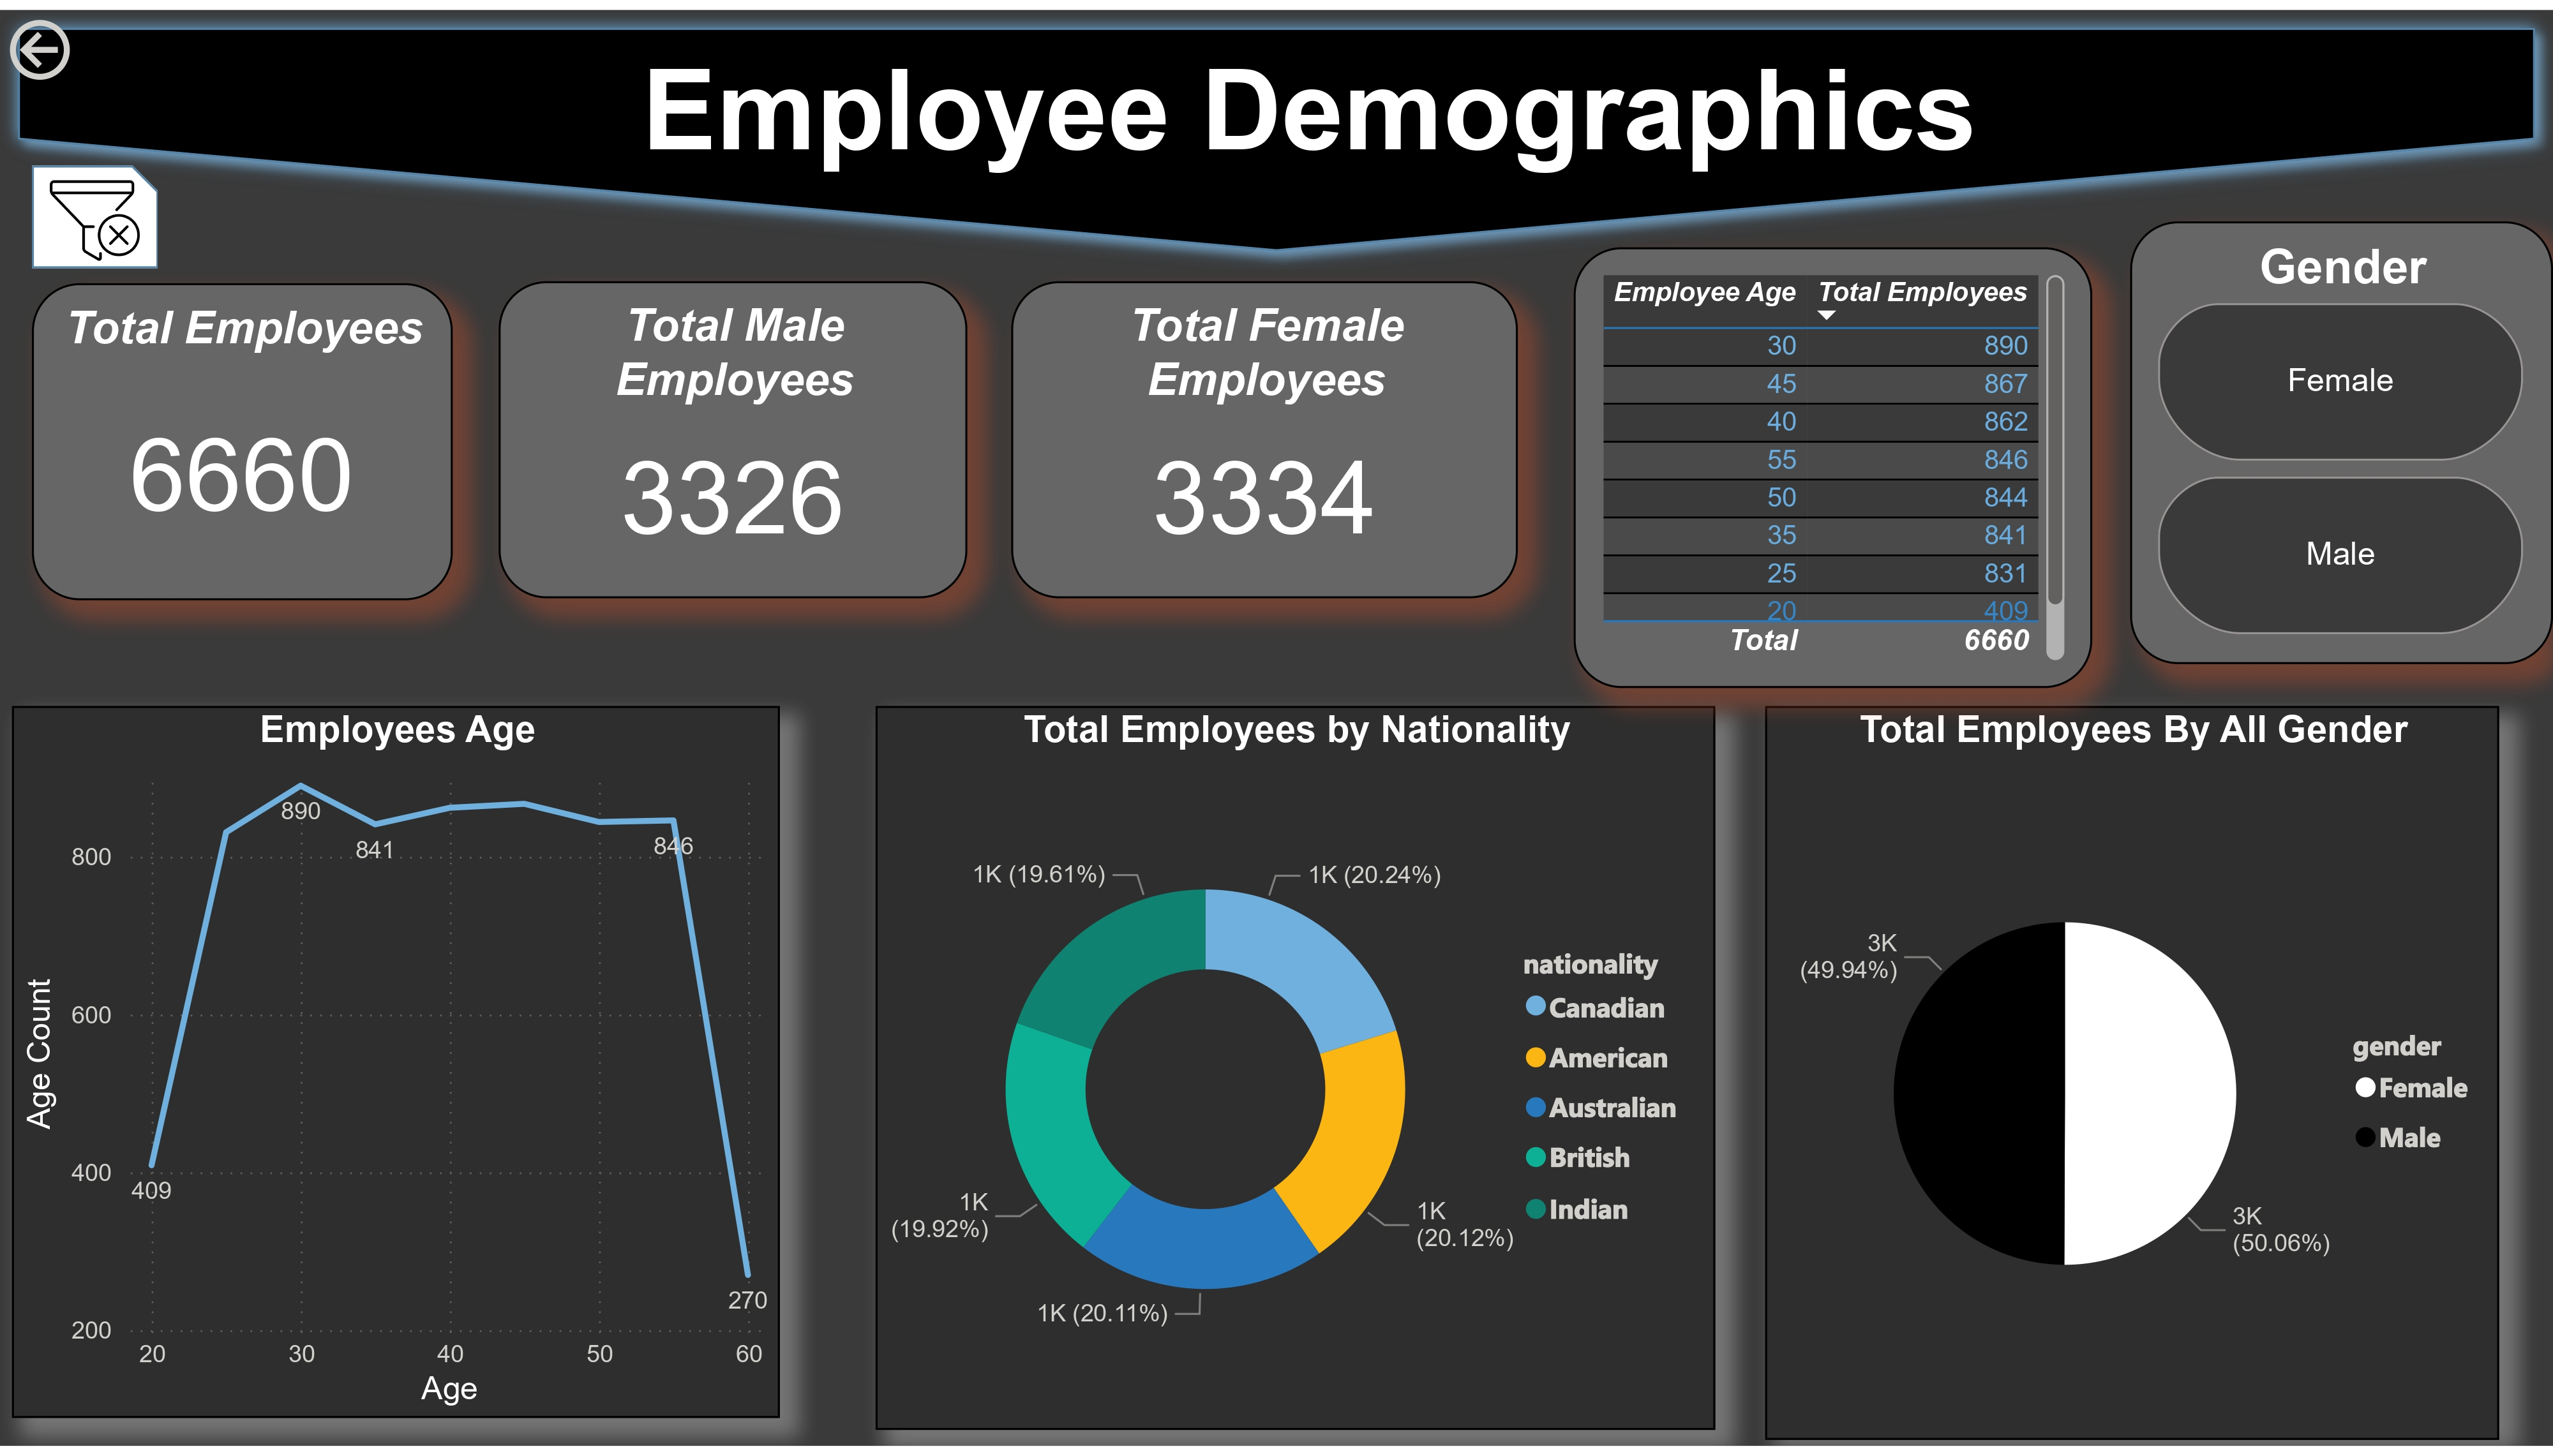

The dashboard page shown, as its layout file describes it:
{"tool":"powerbi","page":{"name":"Employee Detailes","canvas":[1280,720],"ordinal":1},"visuals":[{"type":"pieChart","fields":{"Category":["gender.gender"],"Y":["employee_dataset.TotalEmployees"]},"box":[885.1,349.2,367.7,367.7],"z":0},{"type":"shape","box":[0,0,1280,130],"z":1000},{"type":"card","title":"Total Employees","fields":{"Values":["employee_dataset.TotalEmployees"]},"box":[15.8,137,210.7,158.9],"z":2000},{"type":"lineChart","title":"Employees Age","fields":{"Y":["city.Agecount"],"Category":["employee_dataset.agee"]},"box":[6.4,349.3,385,357],"z":3000},{"type":"advancedSlicerVisual","title":"Gender","fields":{"Values":["gender.gender"]},"box":[1068.4,105.8,211.6,221.8],"z":4000},{"type":"textbox","box":[197.4,12.6,839.4,105],"z":5000},{"type":"donutChart","title":"Total Employees by Nationality","fields":{"Category":["nationality.nationality"],"Y":["employee_dataset.TotalEmployees"]},"box":[438.6,349.3,420.7,363.4],"z":6000},{"type":"card","title":"Total Male Employees","fields":{"Values":["employee_dataset.TotalMaleEmployees"]},"box":[249.9,136.4,234.6,159.4],"z":7000},{"type":"card","title":"Total Female Employees","fields":{"Values":["employee_dataset.TotalFemaleEmployees"]},"box":[507.4,136.4,253.7,159.4],"z":8000},{"type":"tableEx","fields":{"Values":["employee_dataset.age (bins)","employee_dataset.TotalEmployees"]},"box":[788.6,118.9,260.2,220.6],"z":9000},{"type":"actionButton","box":[0,0,100,40],"z":9001},{"type":"shape","box":[15.8,77.9,63.4,51.5],"z":9002},{"type":"image","box":[15.8,77.9,63.4,55.5],"z":9003}]}

Visuals, with their boxes in screenshot pixels (x1, y1, x2, y2), scaled from the page's 1280x720 canvas onto the 2553x1456 screenshot:
pieChart - gender.gender x employee_dataset.TotalEmployees: crop(1765, 706, 2499, 1450)
shape: crop(0, 0, 2552, 263)
"Total Employees" card: crop(31, 277, 452, 598)
"Employees Age" lineChart: crop(13, 706, 781, 1429)
"Gender" advancedSlicerVisual: crop(2131, 214, 2552, 662)
textbox: crop(394, 26, 2068, 238)
"Total Employees by Nationality" donutChart: crop(875, 706, 1714, 1441)
"Total Male Employees" card: crop(498, 276, 966, 598)
"Total Female Employees" card: crop(1012, 276, 1518, 598)
tableEx - employee_dataset.age (bins) x employee_dataset.TotalEmployees: crop(1573, 241, 2092, 687)
actionButton: crop(0, 0, 199, 81)
shape: crop(31, 158, 158, 262)
image: crop(31, 158, 158, 270)
